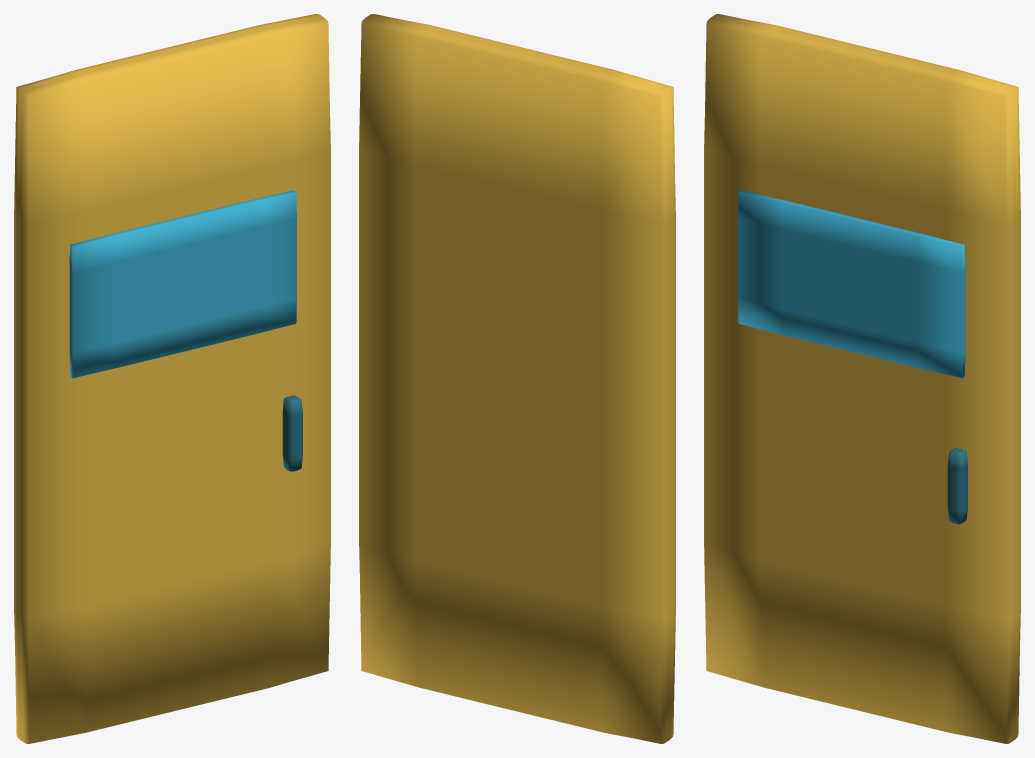
The model's file is puerta-exterior-derecha.glb.
The picture shows the model from 3 angles, left to right: view 1: azimuth 30°, elevation 25°; view 2: azimuth 150°, elevation 25°; view 3: azimuth 330°, elevation 25°; orthographic projection.
Visible parts, largest first — view 1: Amarillo, Agua, Petroleo; view 2: Amarillo; view 3: Amarillo, Agua, Petroleo.
Part boxes in pixels (x1,y1,x2,y2): Amarillo: (14,14,330,743); Agua: (69,190,296,378); Petroleo: (282,395,302,471); Amarillo: (359,14,675,743); Amarillo: (704,14,1020,743); Agua: (738,190,965,378); Petroleo: (947,448,967,524).
Size of the model in its own units: 1.41 by 2.88 by 0.207.
